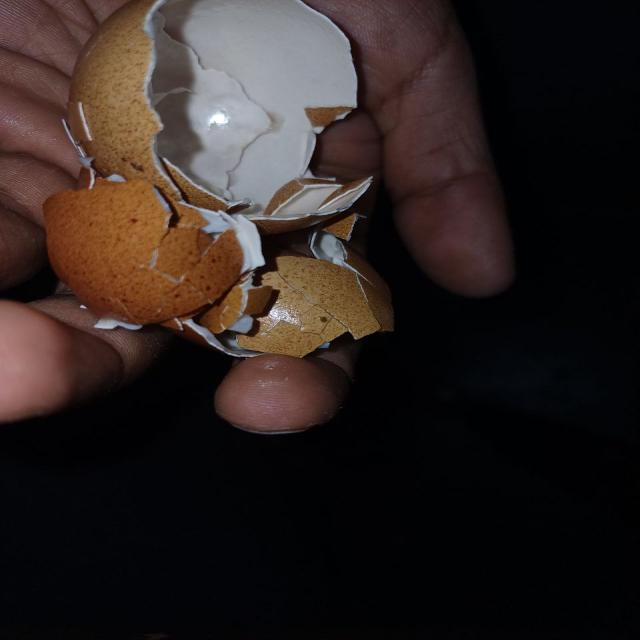organic: (42, 0, 398, 359)
